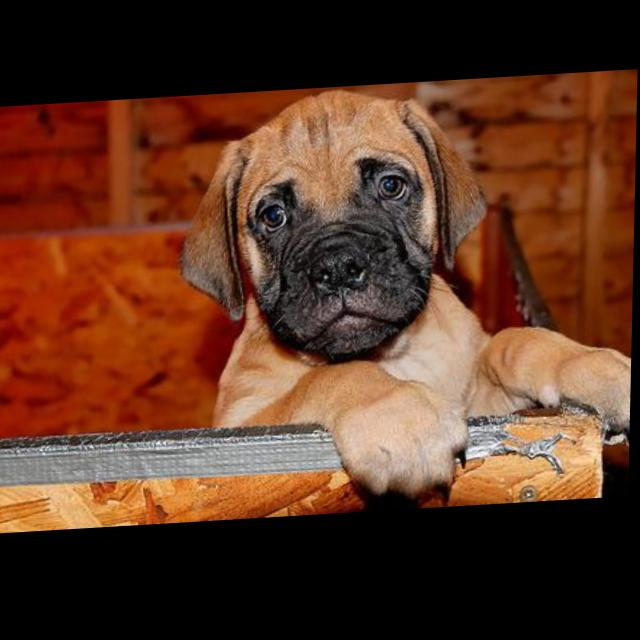bullmastiff: (176, 78, 639, 526)
